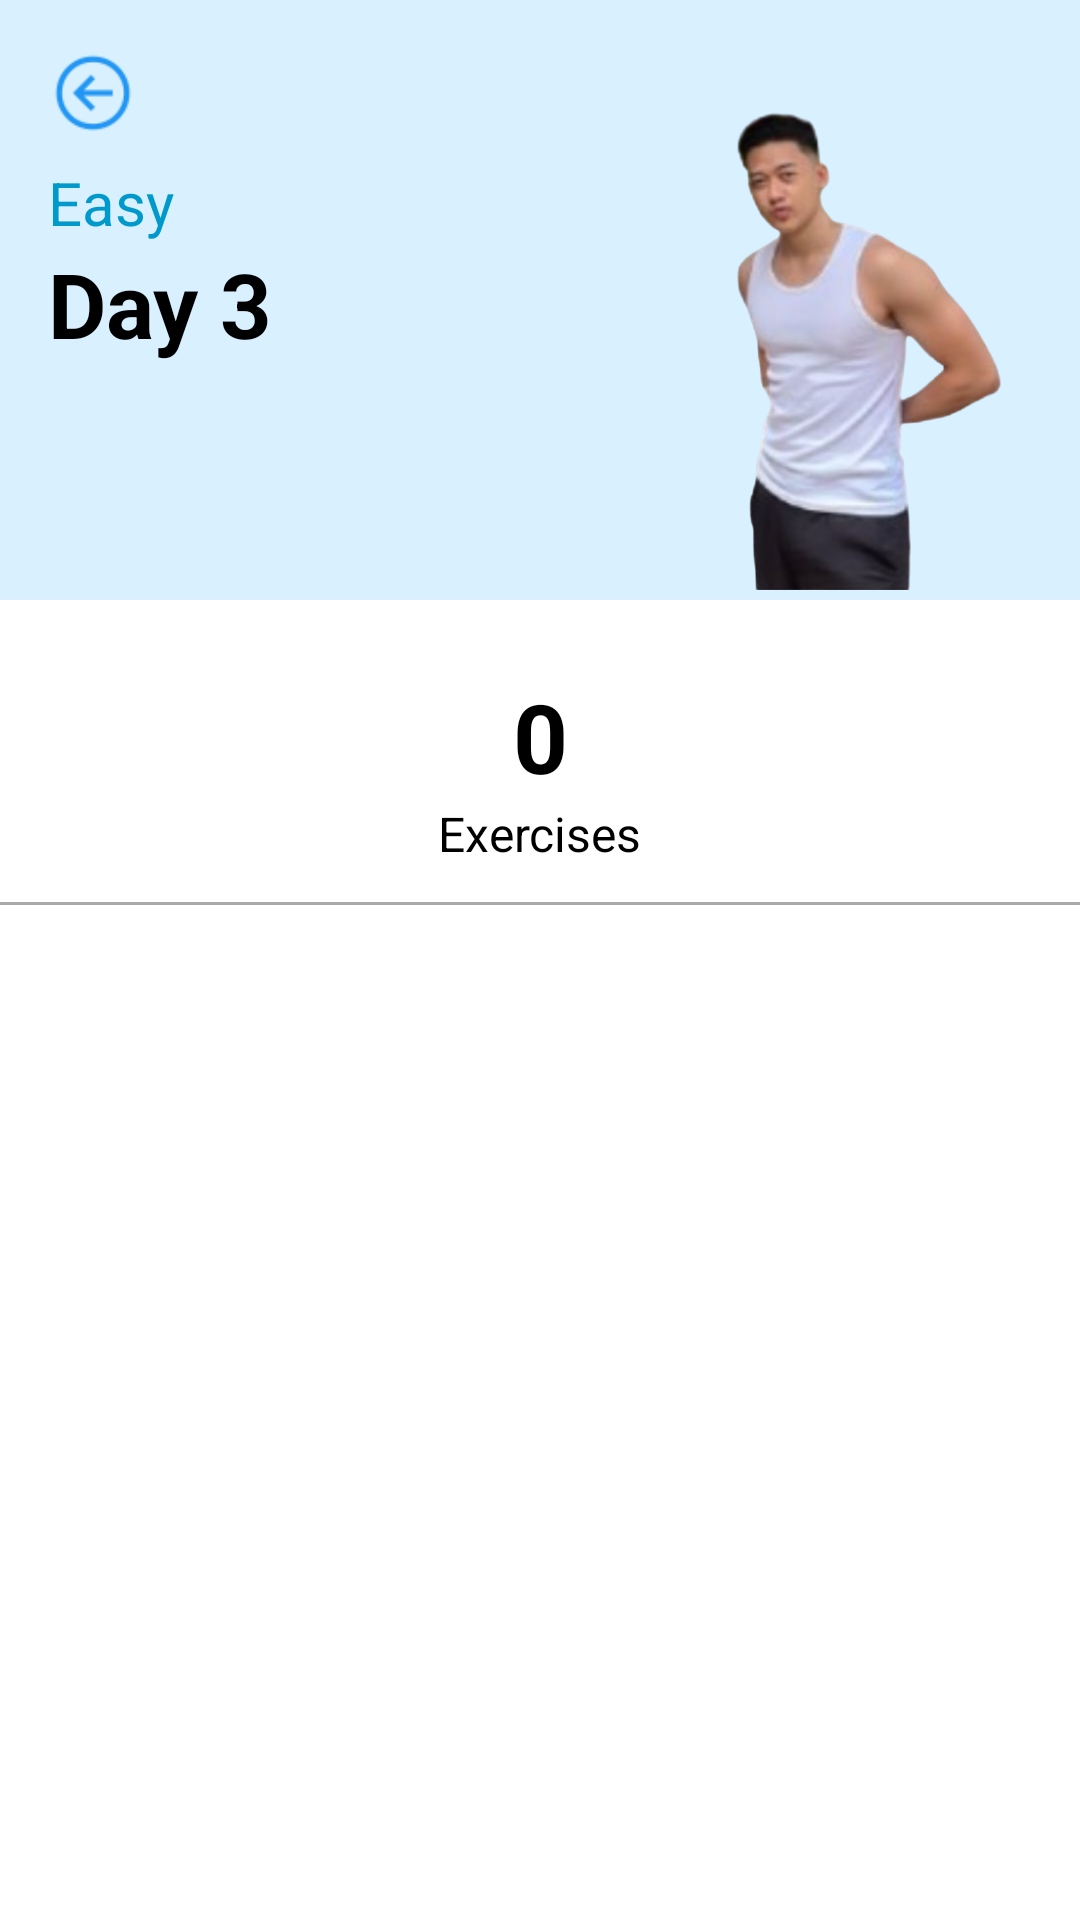

Icons on this 1080 × 1920 Android screen, each with the point to tap as [x,y]:
backbutton: [93,93]
